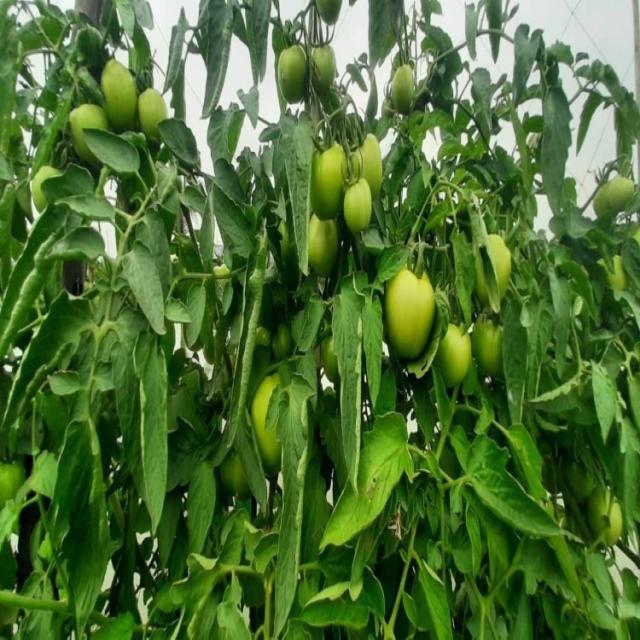tomato: (379, 270, 433, 366), (252, 373, 292, 464), (471, 236, 514, 306), (584, 492, 629, 549), (311, 139, 342, 216), (596, 171, 640, 224), (59, 105, 102, 157), (106, 59, 135, 128), (358, 129, 389, 190), (385, 66, 429, 108), (476, 312, 504, 376), (301, 222, 338, 270), (444, 321, 469, 390), (281, 45, 309, 104), (141, 90, 170, 145), (315, 39, 344, 92), (347, 188, 379, 236), (36, 165, 65, 205), (218, 454, 244, 497), (1, 458, 19, 508)
